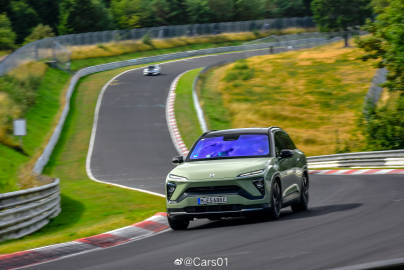other: (168, 124, 318, 232)
